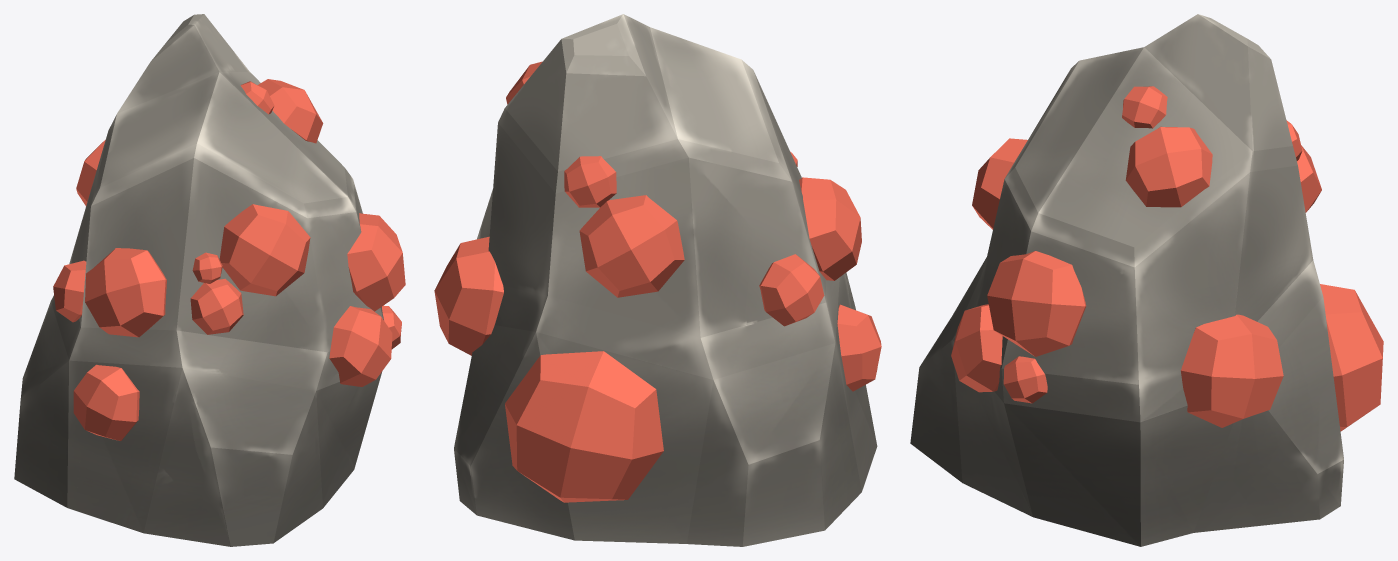
Rendered from red-ore.glb.
The picture shows the model from 3 angles, left to right: view 1: azimuth 30°, elevation 25°; view 2: azimuth 150°, elevation 25°; view 3: azimuth 270°, elevation 25°; orthographic projection. The views are drawn at different scales.
Visible parts, largest first — view 1: big_ore_1_Cube.022; view 2: big_ore_1_Cube.022; view 3: big_ore_1_Cube.022.
Boxes of the visible parts, box(x1,y1,x2,y2) form: big_ore_1_Cube.022: box(14, 14, 405, 546); big_ore_1_Cube.022: box(434, 14, 881, 546); big_ore_1_Cube.022: box(910, 14, 1383, 546).
Bounding box in the file's own units: 0.9985 × 1.16 × 1.09.
Materials: 2 (1 with a texture image).
